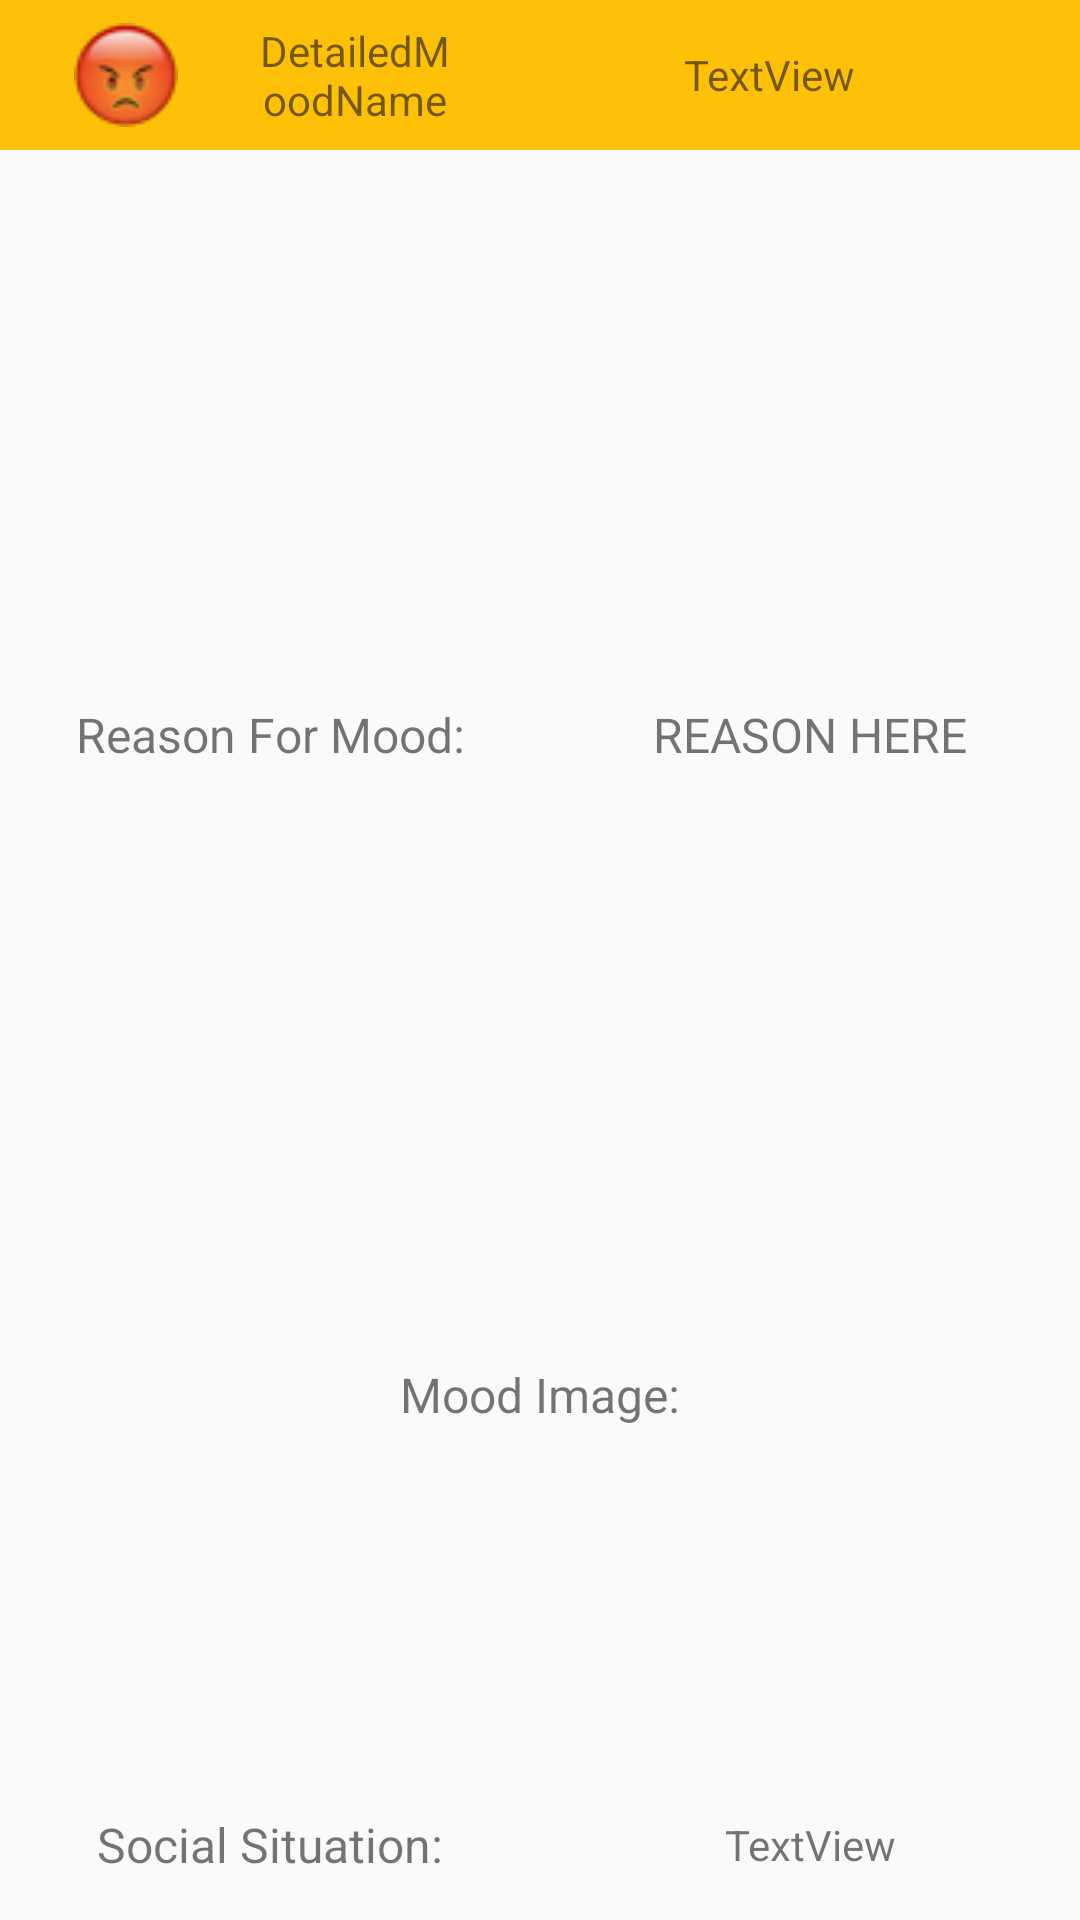

Named icons in this screenshot (1080w x 1920h) and their bounding boxes, (x1, y1, x2, y2):
emot angry: (74, 23, 178, 127)
